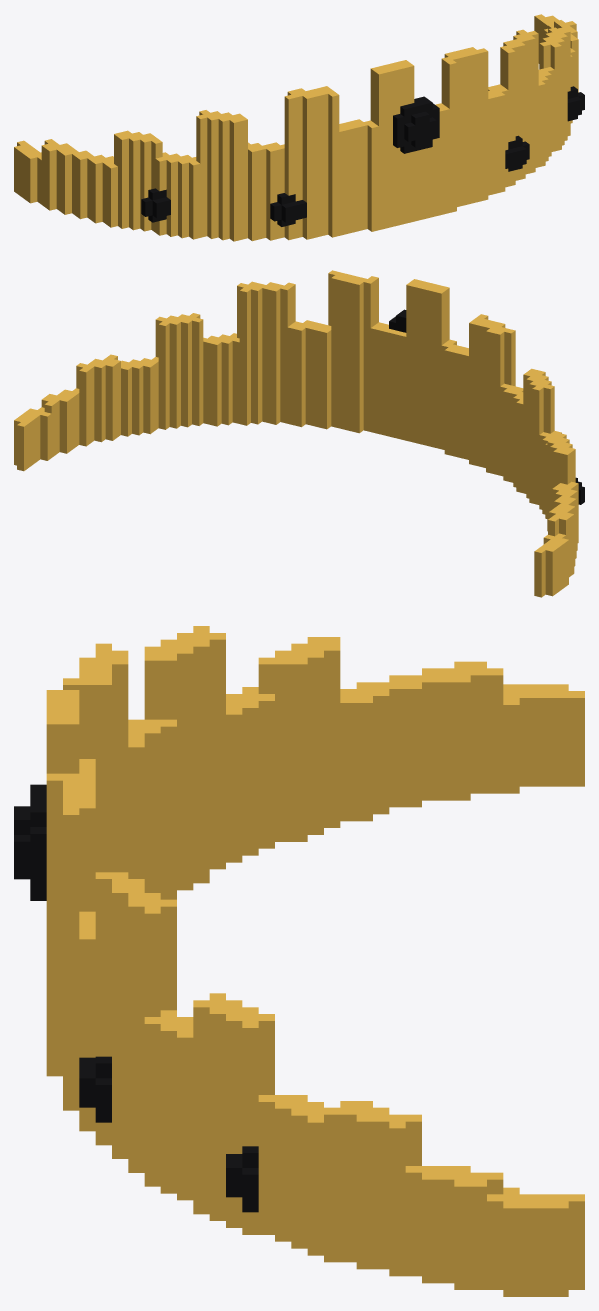
Rendered from onyx_gold_tiara.glb.
3 renders of one model, top to bottom at view 1: azimuth 30°, elevation 25°; view 2: azimuth 150°, elevation 25°; view 3: azimuth 270°, elevation 25°, orthographic. The views are drawn at different scales.
Visible parts, largest first — view 1: onyx_gold_tiara:compound; view 2: onyx_gold_tiara:compound; view 3: onyx_gold_tiara:compound.
Part boxes in pixels (<box>): onyx_gold_tiara:compound: <box>14,14,584,241</box>; onyx_gold_tiara:compound: <box>14,270,584,597</box>; onyx_gold_tiara:compound: <box>14,626,584,1296</box>.
Size of the model in its own units: 0.152 by 0.042 by 0.07.
